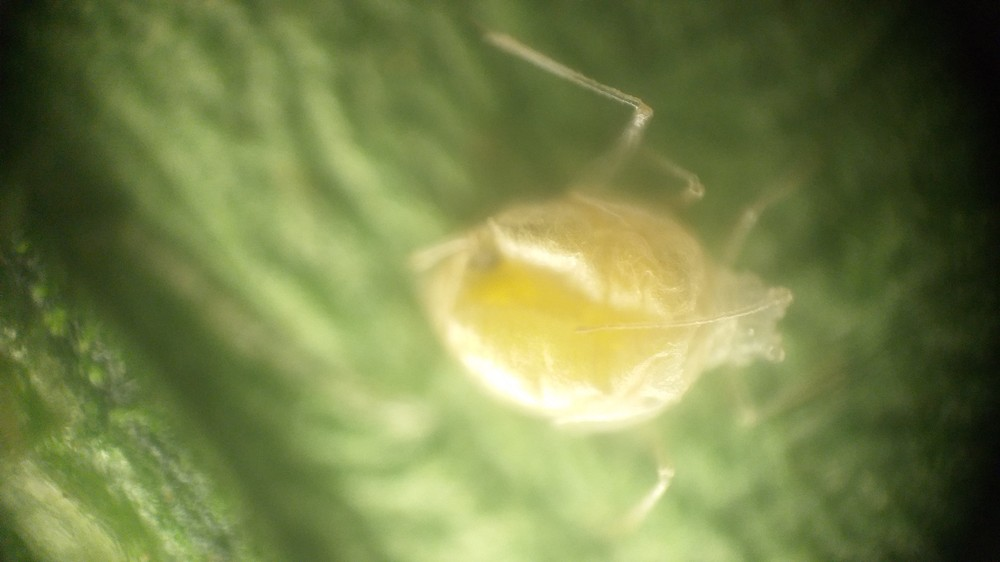Pulgon: (395, 37, 827, 523)
